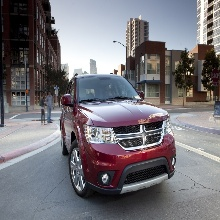no damage: (59, 73, 177, 199)
